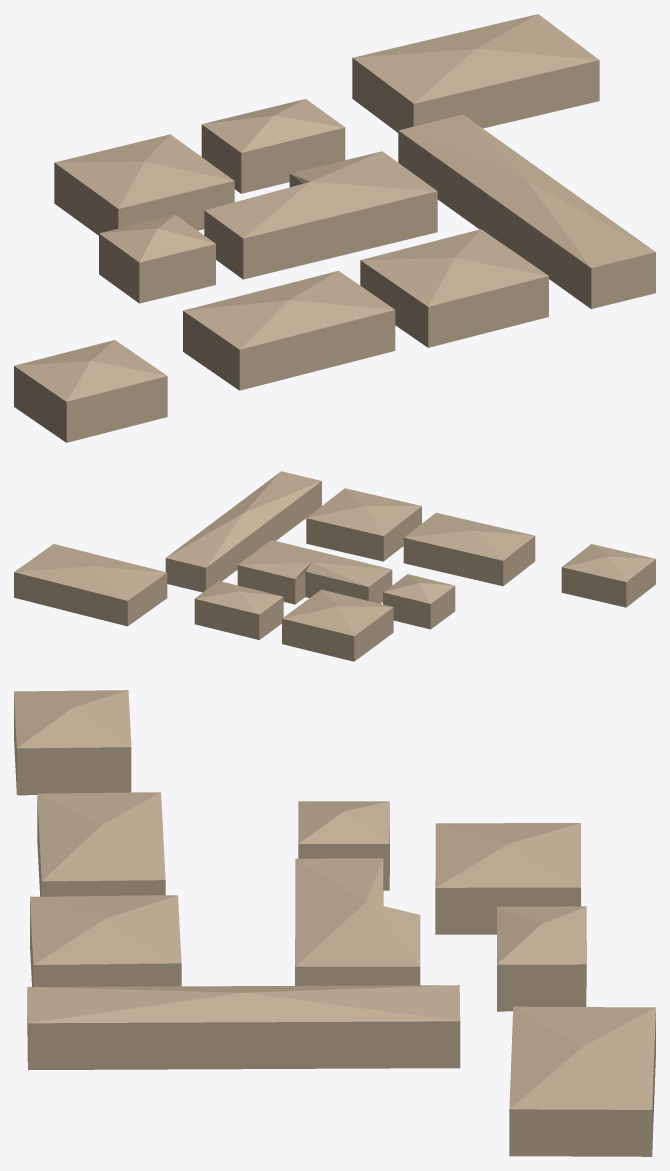
The model's file is xinhua-villas-211-massing.glb.
3 renders of one model, top to bottom at view 1: azimuth 30°, elevation 25°; view 2: azimuth 150°, elevation 25°; view 3: azimuth 270°, elevation 25°, orthographic. The views are drawn at different scales.
Parts seen in each view (by area): view 1: xinhua-villas-211-way-864485597, xinhua-villas-211-way-864485598, xinhua-villas-211-way-864485596, xinhua-villas-211-way-864485675, xinhua-villas-211-way-864485676, xinhua-villas-211-way-864485593, xinhua-villas-211-way-864485674, xinhua-villas-211-way-864485594, xinhua-villas-211-way-864485595; view 2: xinhua-villas-211-way-864485597, xinhua-villas-211-way-864485598, xinhua-villas-211-way-864485675, xinhua-villas-211-way-864485596, xinhua-villas-211-way-864485676, xinhua-villas-211-way-864485593, xinhua-villas-211-way-864485674, xinhua-villas-211-way-864485594, xinhua-villas-211-way-864485595; view 3: xinhua-villas-211-way-864485597, xinhua-villas-211-way-864485598, xinhua-villas-211-way-864485596, xinhua-villas-211-way-864485593, xinhua-villas-211-way-864485676, xinhua-villas-211-way-864485675, xinhua-villas-211-way-864485674, xinhua-villas-211-way-864485594, xinhua-villas-211-way-864485595.
Part boxes in pixels (box(x1,y1,x2,y2)): xinhua-villas-211-way-864485597: box(398, 114, 655, 308); xinhua-villas-211-way-864485598: box(352, 14, 599, 132); xinhua-villas-211-way-864485596: box(204, 151, 437, 279); xinhua-villas-211-way-864485675: box(183, 271, 395, 390); xinhua-villas-211-way-864485676: box(360, 229, 548, 347); xinhua-villas-211-way-864485593: box(54, 134, 234, 235); xinhua-villas-211-way-864485674: box(14, 340, 167, 442); xinhua-villas-211-way-864485594: box(201, 99, 345, 193); xinhua-villas-211-way-864485595: box(99, 214, 215, 303); xinhua-villas-211-way-864485597: box(165, 471, 321, 592); xinhua-villas-211-way-864485598: box(14, 544, 167, 626); xinhua-villas-211-way-864485675: box(403, 512, 535, 586); xinhua-villas-211-way-864485596: box(237, 540, 392, 604); xinhua-villas-211-way-864485676: box(306, 488, 421, 561); xinhua-villas-211-way-864485593: box(282, 589, 393, 661); xinhua-villas-211-way-864485674: box(561, 544, 655, 607); xinhua-villas-211-way-864485594: box(194, 581, 283, 639); xinhua-villas-211-way-864485595: box(383, 574, 455, 629); xinhua-villas-211-way-864485597: box(27, 985, 460, 1069); xinhua-villas-211-way-864485598: box(509, 1006, 655, 1156); xinhua-villas-211-way-864485596: box(295, 858, 420, 985); xinhua-villas-211-way-864485593: box(435, 823, 580, 934); xinhua-villas-211-way-864485676: box(30, 895, 181, 986); xinhua-villas-211-way-864485675: box(37, 792, 165, 896); xinhua-villas-211-way-864485674: box(14, 690, 131, 795); xinhua-villas-211-way-864485594: box(497, 906, 586, 1011); xinhua-villas-211-way-864485595: box(298, 801, 389, 890).
Size of the model in its own units: 54.79 by 3.55 by 35.4.
